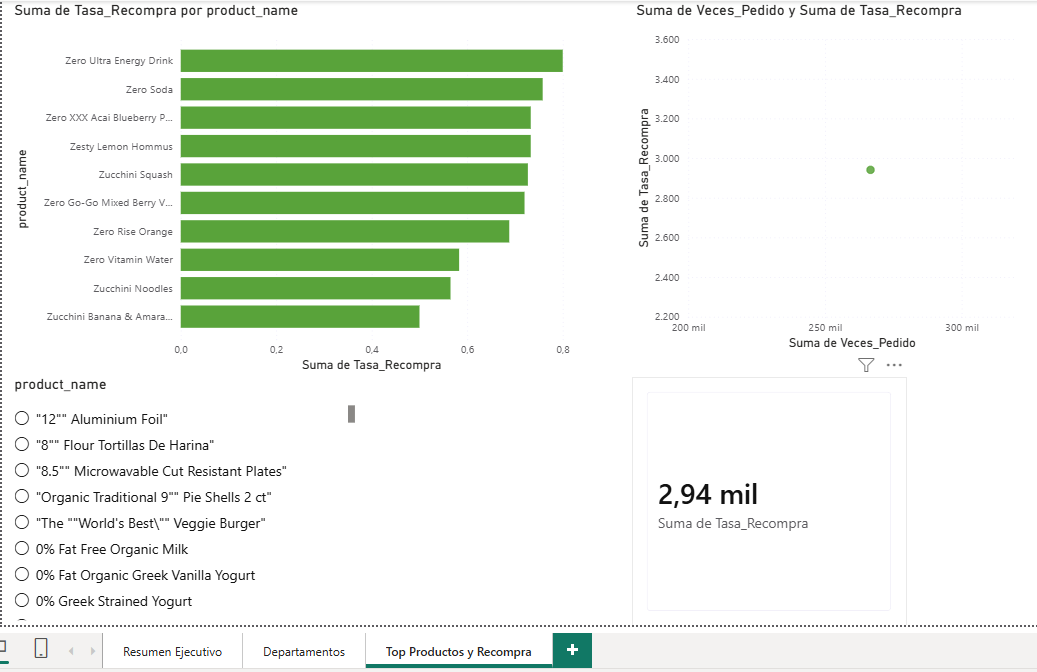

This screenshot's page, from the dashboard's own definition file:
{"tool":"powerbi","page":{"name":"Top Productos y Recompra","canvas":[1280,720],"ordinal":2},"visuals":[{"type":"barChart","fields":{"Y":["Sum(kpi_tasa_recompra_producto.Tasa_Recompra)"],"Category":["kpi_tasa_recompra_producto.product_name"]},"box":[9.2,0,650.8,432.7],"z":0},{"type":"scatterChart","fields":{"X":["Sum(kpi_tasa_recompra_producto.Veces_Pedido)"],"Y":["Sum(kpi_tasa_recompra_producto.Tasa_Recompra)"]},"box":[726.9,0,468.5,407.3],"z":1000},{"type":"listSlicer","fields":{"Values":["kpi_tasa_recompra_producto.product_name"]},"box":[9.5,432.1,403.6,288.5],"z":2000},{"type":"cardVisual","fields":{"Data":["Sum(kpi_tasa_recompra_producto.Tasa_Recompra)"]},"box":[727.4,433.4,317,287.2],"z":3000}]}

Visuals, with their boxes on the page's 1280x720 design canvas (x1, y1, x2, y2). These are canvas units, not pixel positions in the 1037x672 screenshot, which may show the page scaled, cropped or inside an application window:
barChart - Sum(kpi_tasa_recompra_producto.Tasa_Recompra) x kpi_tasa_recompra_producto.product_name: region(9, 0, 660, 433)
scatterChart - Sum(kpi_tasa_recompra_producto.Veces_Pedido) x Sum(kpi_tasa_recompra_producto.Tasa_Recompra): region(727, 0, 1195, 407)
listSlicer - kpi_tasa_recompra_producto.product_name: region(10, 432, 413, 721)
cardVisual - Sum(kpi_tasa_recompra_producto.Tasa_Recompra): region(727, 433, 1044, 721)
